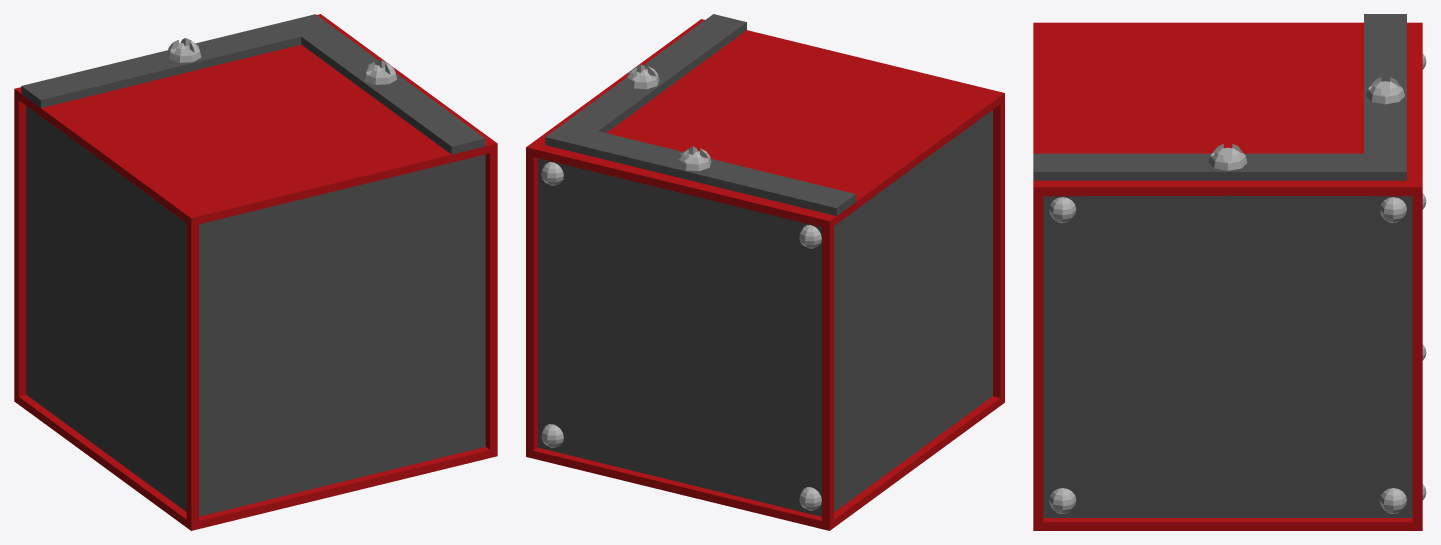
The model's file is machine_tile3.fbx.
3 views of the same model, side by side, from view 1: azimuth 30°, elevation 25°; view 2: azimuth 150°, elevation 25°; view 3: azimuth 270°, elevation 25° (orthographic). The views are drawn at different scales.
Visible parts, largest first — view 1: Mesh; view 2: Mesh; view 3: Mesh.
Boxes of the visible parts, x1,y1,x2,y2 form: Mesh: (14,14,497,530); Mesh: (526,14,1004,530); Mesh: (1033,14,1426,530).
Size of the model in its own units: 1.01 by 1.05 by 1.01.
